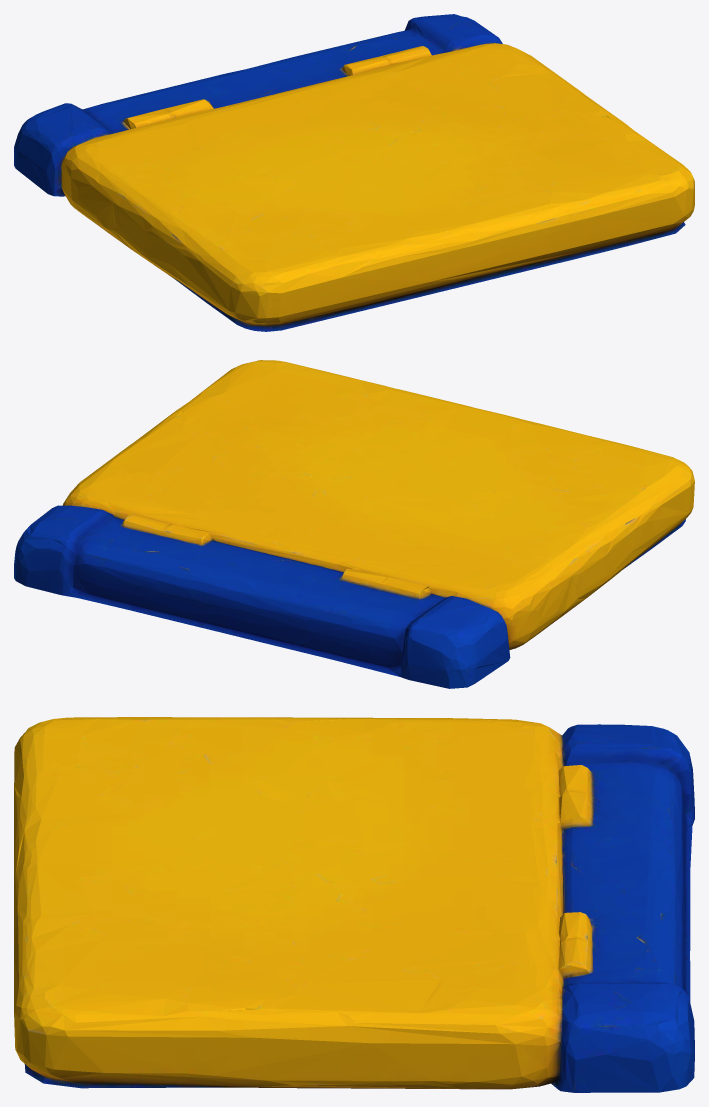
File: lid.glb
The picture shows the model from 3 angles, top to bottom: view 1: azimuth 30°, elevation 25°; view 2: azimuth 150°, elevation 25°; view 3: azimuth 270°, elevation 25°; orthographic projection. The views are drawn at different scales.
Parts seen in each view (by area): view 1: source_surface_0; view 2: source_surface_0; view 3: source_surface_0.
Part boxes in pixels (x1,y1,x2,y2): source_surface_0: (14, 14, 694, 331); source_surface_0: (14, 360, 694, 688); source_surface_0: (14, 717, 694, 1092).
Bounding box in the file's own units: 0.2498 × 0.0286 × 0.2311.
1 material, 1 textured.
